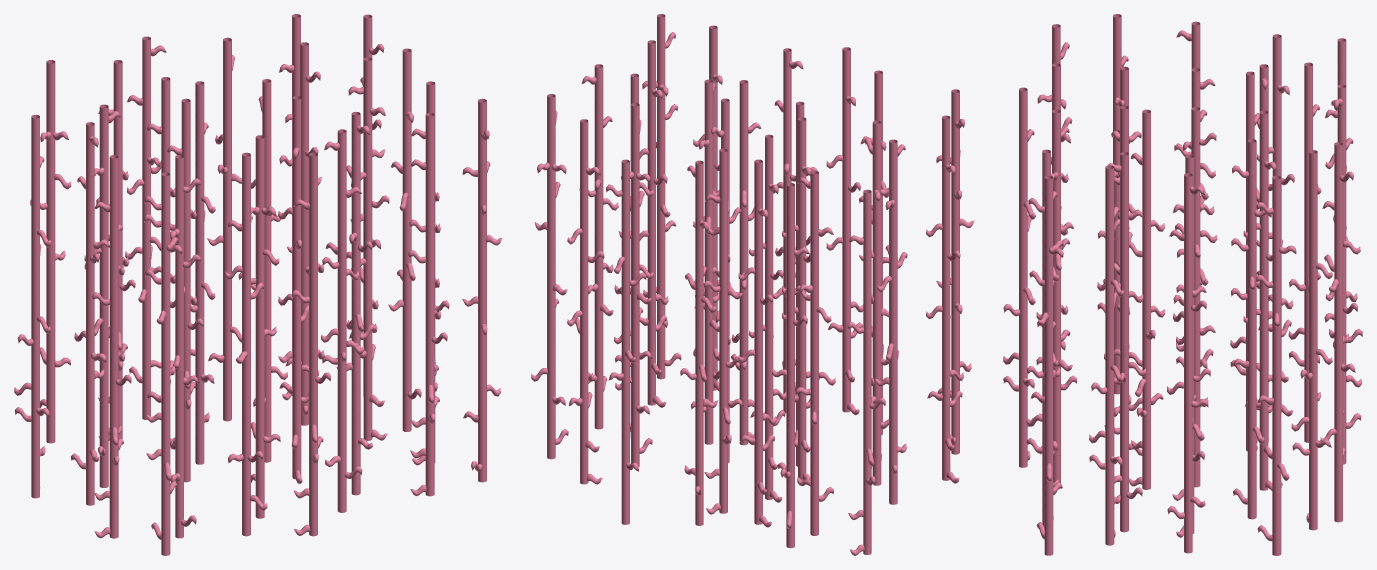
File: treesdense.fbx
3 renders of one model, left to right at view 1: azimuth 30°, elevation 25°; view 2: azimuth 150°, elevation 25°; view 3: azimuth 270°, elevation 25°, orthographic. The views are drawn at different scales.
Visible parts, largest first — view 1: Tree 6, Tree 4, Tree 2.007, Tree 2.002, Tree 5.003, Tree 6.003, Tree 2.003, Tree 2.006, Tree 5.001, Tree 6.001, Tree 2.009, Tree 3.007 (+16 smaller); view 2: Tree 3.001, Tree 3.007, Tree 2.008, Tree 2.010, Tree 2.002, Tree 2.005, Tree 4.002, Tree 6.003, Tree 2.009, Tree 2.001, Tree 1.001, Tree 3 (+16 smaller); view 3: Tree 4.007, Tree 2.029, Tree 4.002, Tree 4.005, Tree 3.007, Tree 2.003, Tree 6.001, Tree 2.005, Tree 2.008, Tree 1.001, Tree 2.001, Tree 6 (+16 smaller).
Part boxes in pixels (x1,y1,x2,y2): Tree 6: (321, 129, 364, 512); Tree 4: (144, 172, 182, 555); Tree 2.007: (408, 112, 447, 496); Tree 2.002: (92, 155, 131, 538); Tree 5.003: (30, 60, 71, 443); Tree 6.003: (125, 36, 166, 419); Tree 2.003: (278, 96, 318, 483); Tree 2.006: (351, 57, 389, 440); Tree 5.001: (238, 135, 280, 518); Tree 6.001: (336, 111, 375, 495); Tree 2.009: (14, 114, 51, 498); Tree 3.007: (388, 48, 421, 431); Tree 3.001: (795, 170, 835, 535); Tree 3.007: (579, 64, 618, 429); Tree 2.008: (567, 119, 604, 484); Tree 2.010: (738, 159, 776, 527); Tree 2.002: (926, 115, 963, 483); Tree 2.005: (826, 47, 863, 415); Tree 4.002: (531, 94, 568, 459); Tree 6.003: (680, 160, 718, 525); Tree 2.009: (847, 189, 885, 555); Tree 2.001: (703, 148, 741, 514); Tree 1.001: (606, 159, 646, 524); Tree 3: (875, 139, 907, 504); Tree 4.007: (1028, 175, 1063, 555); Tree 2.029: (1089, 165, 1124, 545); Tree 4.002: (1256, 175, 1296, 555); Tree 4.005: (1231, 139, 1271, 519); Tree 3.007: (1167, 173, 1208, 553); Tree 2.003: (1129, 109, 1165, 489); Tree 6.001: (1103, 152, 1145, 532); Tree 2.005: (1003, 87, 1035, 467); Tree 2.008: (1291, 150, 1332, 530); Tree 1.001: (1320, 142, 1360, 522); Tree 2.001: (1243, 110, 1281, 490); Tree 6: (1037, 109, 1073, 489).
Bounding box in the file's own units: 1185 × 1221 × 1006.
